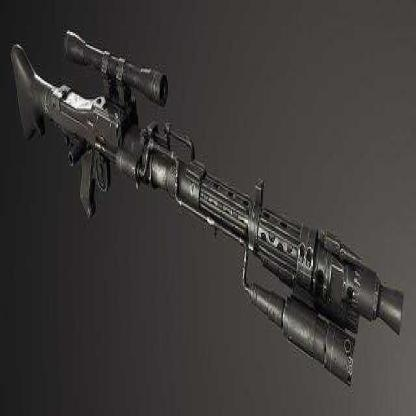rifle: (8, 32, 405, 317)
